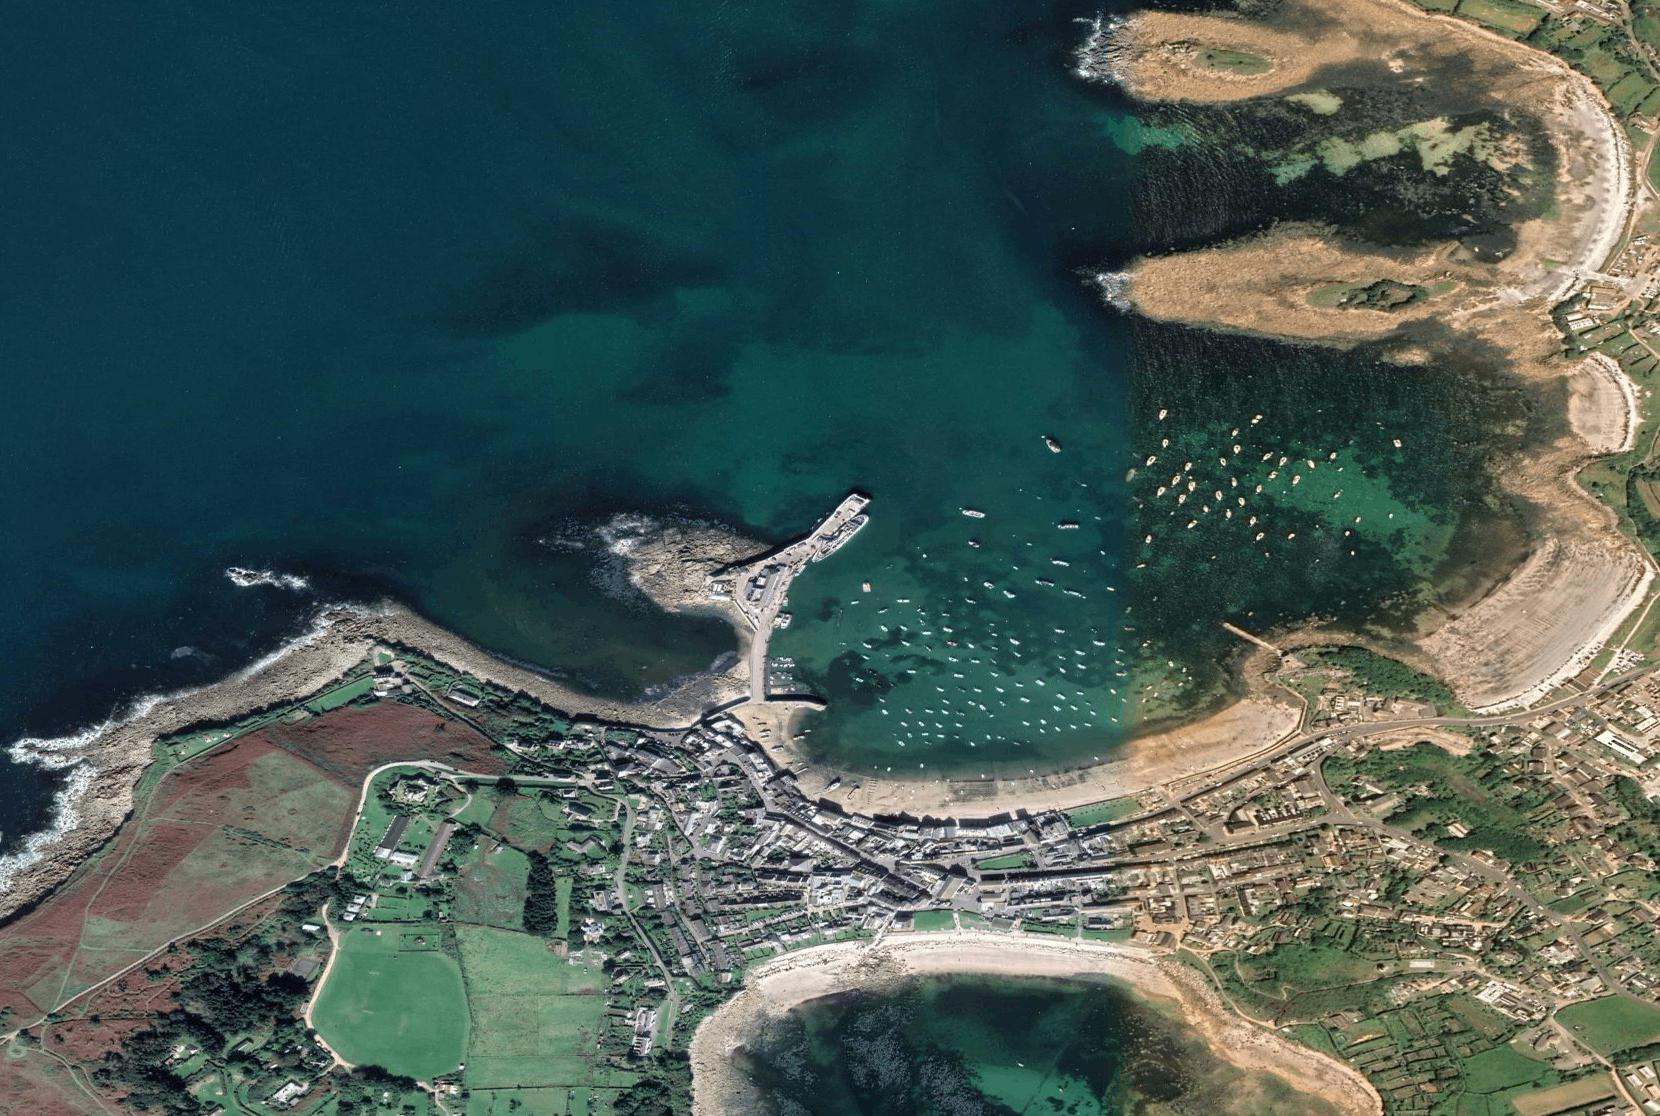harbor: (653, 451, 909, 720)
